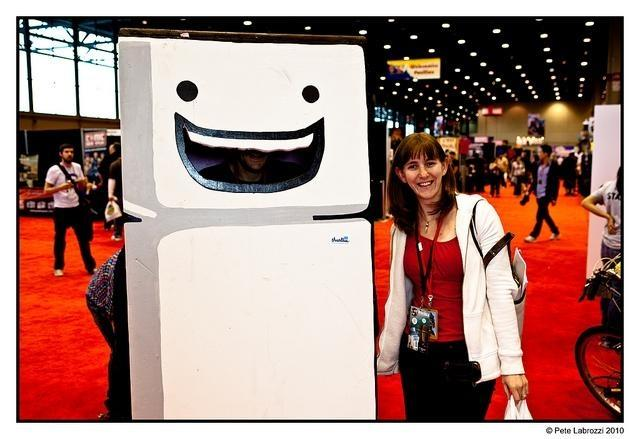bicycle: (574, 251, 626, 424)
